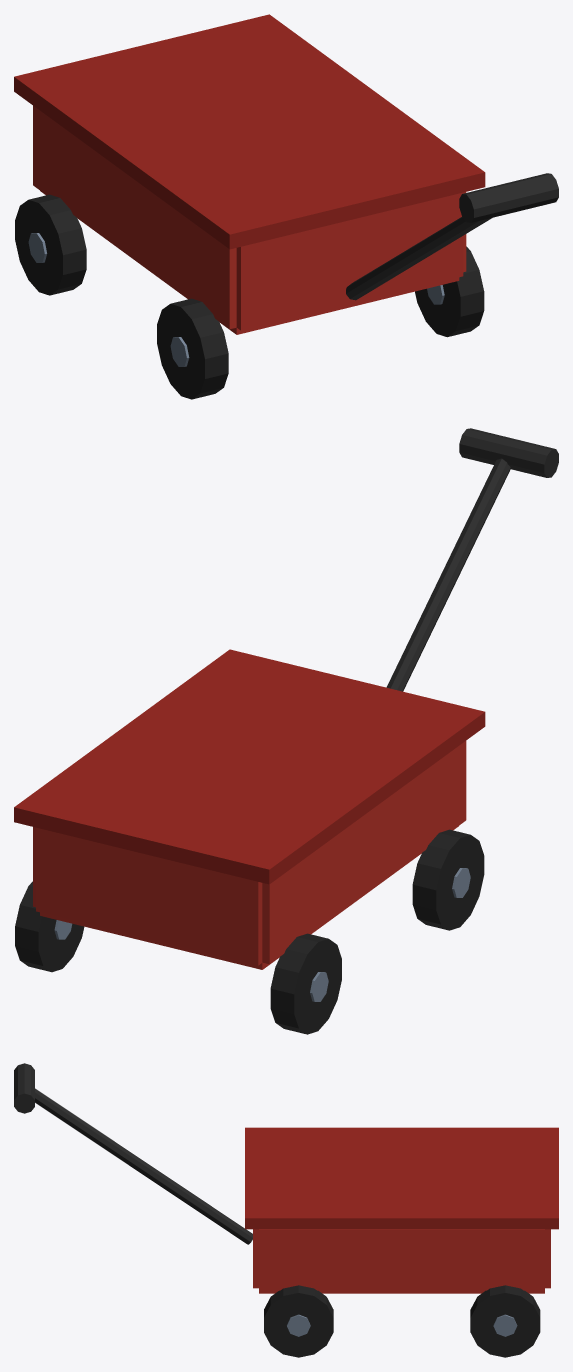
File: wagon.glb
3 renders of one model, top to bottom at view 1: azimuth 30°, elevation 25°; view 2: azimuth 150°, elevation 25°; view 3: azimuth 270°, elevation 25°, orthographic. The views are drawn at different scales.
Visible parts, largest first — view 1: wagon, wagon-handle; view 2: wagon, wagon-handle; view 3: wagon, wagon-handle.
Part boxes in pixels (x1,y1,x2,y2): wagon: (14,14,485,399); wagon-handle: (346,173,558,300); wagon: (14,649,485,1034); wagon-handle: (386,428,558,691); wagon: (245,1127,558,1357); wagon-handle: (14,1063,252,1244).
Size of the model in its own units: 0.6 by 0.638 by 1.37.
